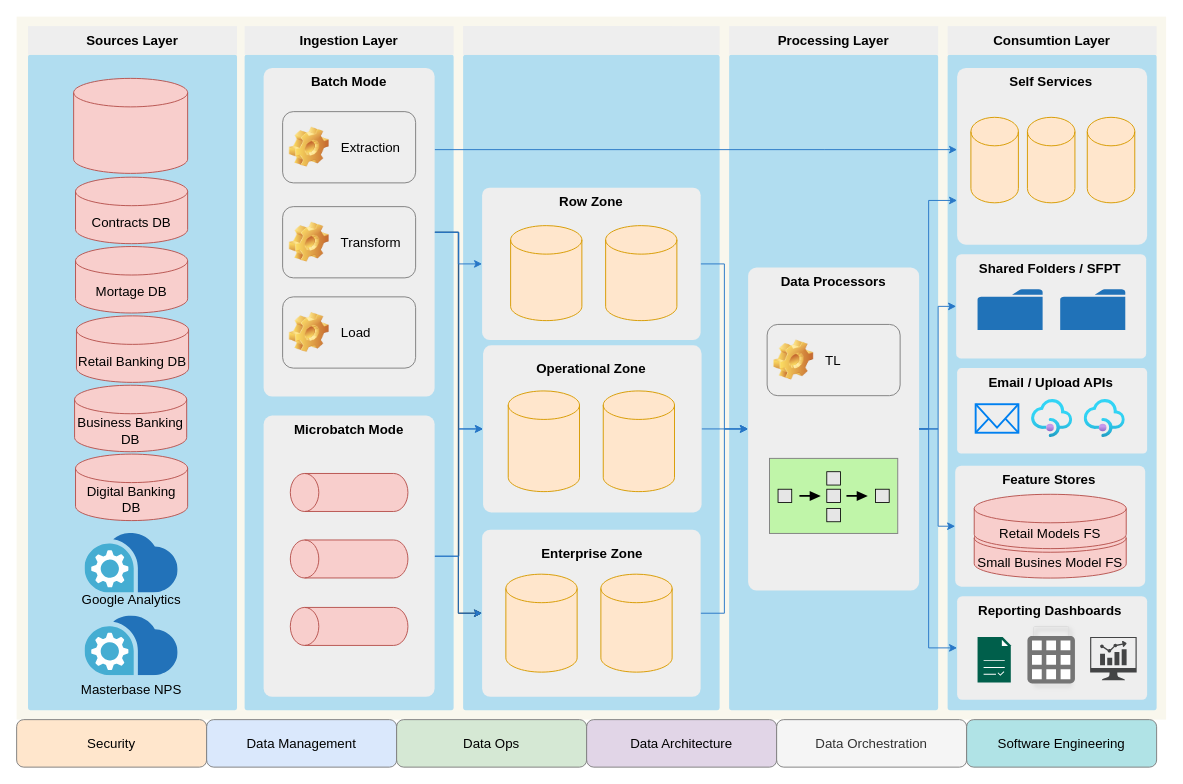
This 1183x784 diagram has some shape labels left out. The centre of each missing label's shape, as x and y in pixels:
Core System BT Data Base: (x=130, y=125)
Storage Layer: (x=591, y=40)
